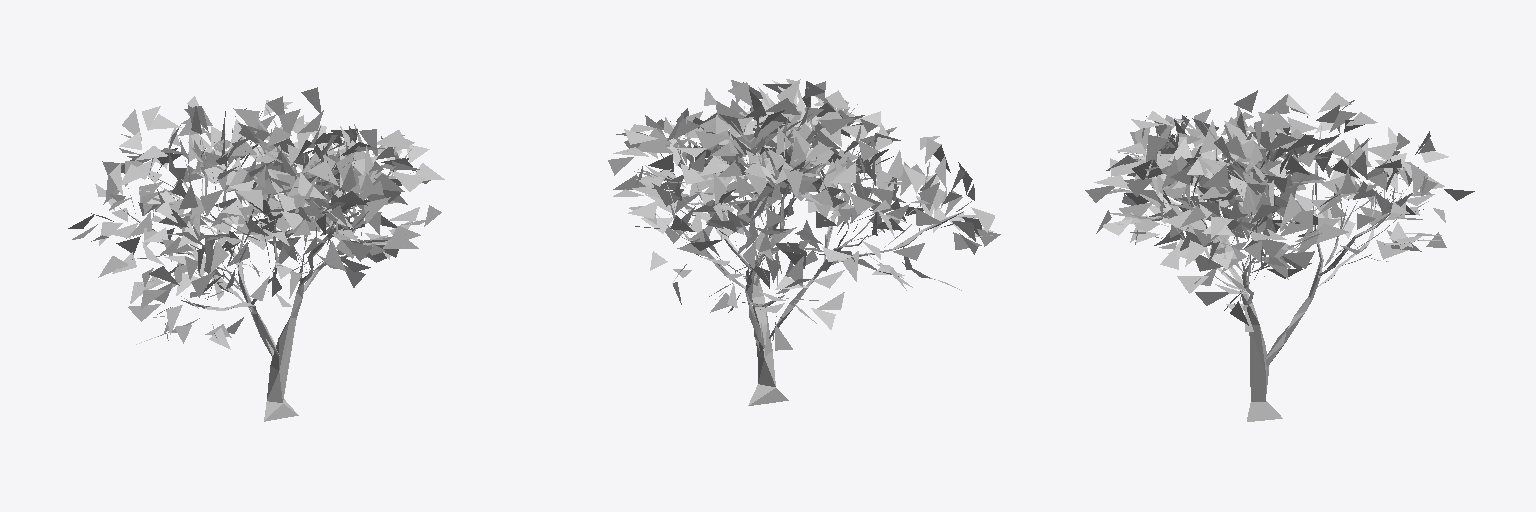
Rendered from reduce.obj.
The picture shows the model from 3 angles: view 1: azimuth 30°, elevation 25°; view 2: azimuth 150°, elevation 25°; view 3: azimuth 270°, elevation 25°; orthographic projection.
Parts seen in each view (by area): view 1: 11_Hornbeam_Tree.001_LOD1; view 2: 11_Hornbeam_Tree.001_LOD1; view 3: 11_Hornbeam_Tree.001_LOD1.
Part boxes in pixels (x1,y1,x2,y2): 11_Hornbeam_Tree.001_LOD1: (68, 87, 444, 421); 11_Hornbeam_Tree.001_LOD1: (608, 79, 1000, 405); 11_Hornbeam_Tree.001_LOD1: (1085, 90, 1474, 421).
Bounding box in the file's own units: 333 × 286 × 329.